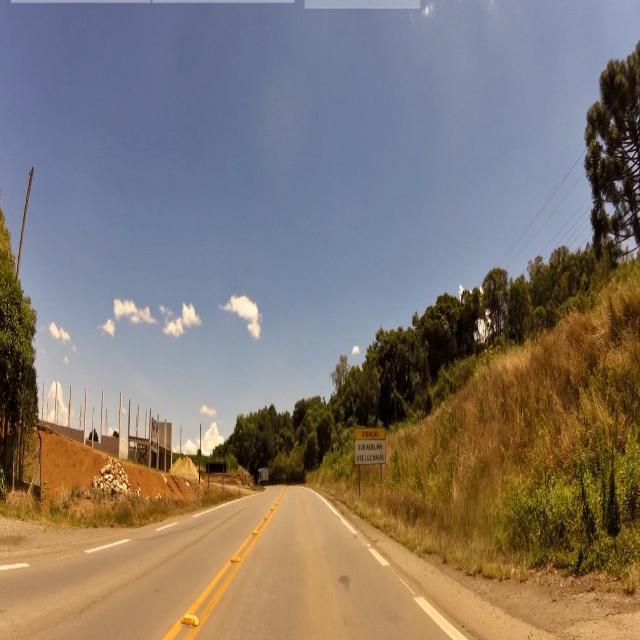E-5: (355, 441, 385, 465)
